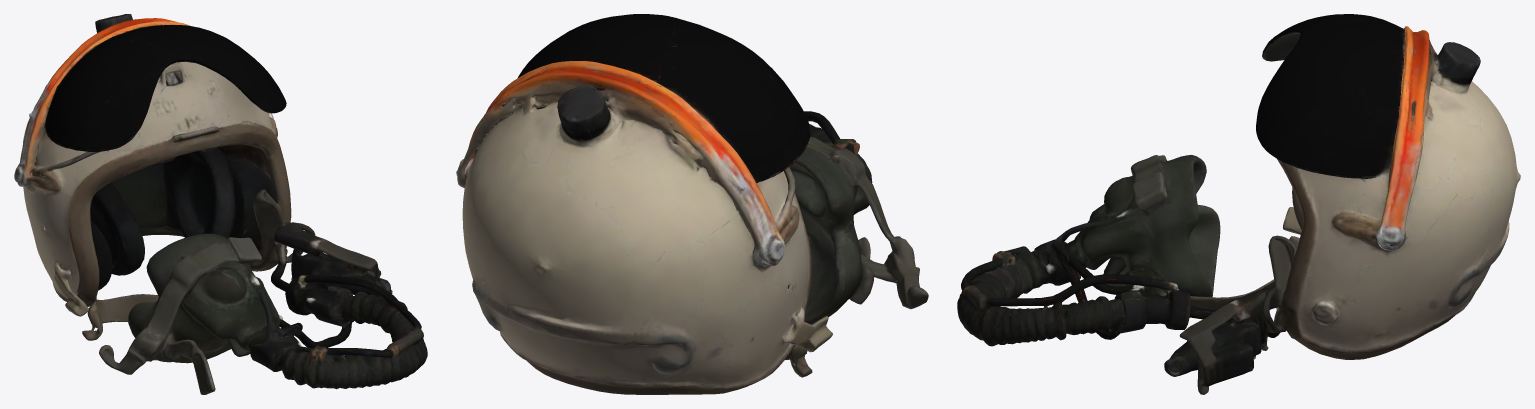
File: 3faa1741-e951-4f1b-9312-d88ddad78dea.glb
The picture shows the model from 3 angles, left to right: view 1: azimuth 30°, elevation 25°; view 2: azimuth 150°, elevation 25°; view 3: azimuth 270°, elevation 25°; orthographic projection. The views are drawn at different scales.
Parts seen in each view (by area): view 1: world; view 2: world; view 3: world.
Part boxes in pixels (x1,y1,x2,y2): world: (14, 14, 427, 394); world: (456, 14, 928, 394); world: (957, 14, 1520, 394).
Bounding box in the file's own units: 0.6644 × 0.5796 × 0.9897.
1 material, 1 textured.
